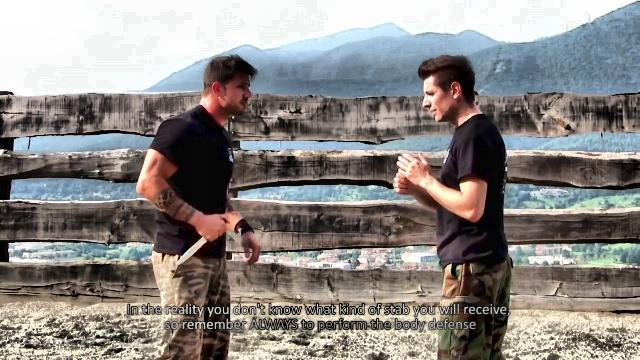knife: (170, 214, 228, 266)
